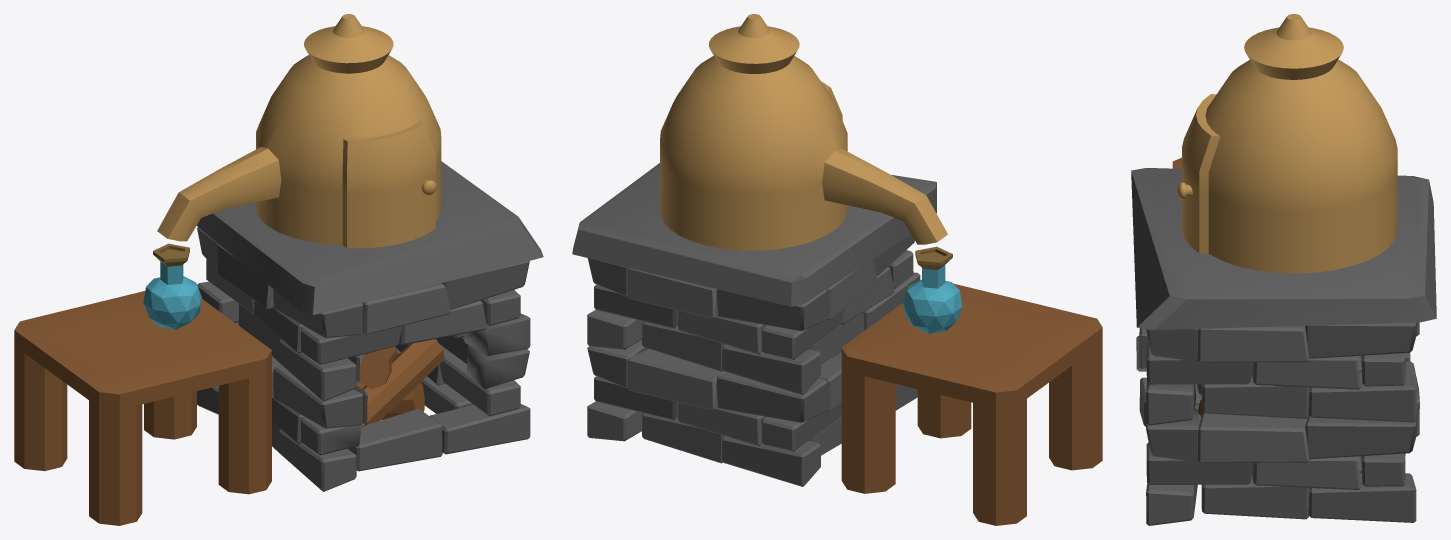
Rendered from distillery - samuel gragg .fbx.
The picture shows the model from 3 angles, left to right: view 1: azimuth 30°, elevation 25°; view 2: azimuth 150°, elevation 25°; view 3: azimuth 270°, elevation 25°; orthographic projection. The views are drawn at different scales.
Visible parts, largest first — view 1: Cube.003, Cube, Cylinder, Cube.006, Cylinder.001, Icosphere, Cube.004, Cube.001, Cube.002; view 2: Cube.003, Cube, Cylinder, Cube.006, Cylinder.001, Icosphere; view 3: Cube.003, Cylinder, Cube.006, Cylinder.001.
Boxes of the visible parts, x1,y1,x2,y2 form: Cube.003: (197, 227, 530, 491); Cube: (14, 291, 271, 525); Cylinder: (157, 55, 441, 248); Cube.006: (197, 161, 543, 315); Cylinder.001: (304, 14, 393, 73); Icosphere: (143, 243, 201, 329); Cube.004: (361, 339, 444, 427); Cube.001: (359, 347, 397, 389); Cube.002: (356, 381, 424, 419); Cube.003: (587, 234, 920, 486); Cube: (841, 283, 1102, 525); Cylinder: (660, 55, 947, 250); Cube.006: (572, 163, 936, 306); Cylinder.001: (708, 14, 799, 73); Icosphere: (903, 246, 962, 333); Cube.003: (1136, 322, 1419, 525); Cylinder: (1182, 59, 1397, 273); Cube.006: (1131, 168, 1436, 330); Cylinder.001: (1244, 14, 1343, 79).
Size of the model in its own units: 3085 by 2854 by 1725.
